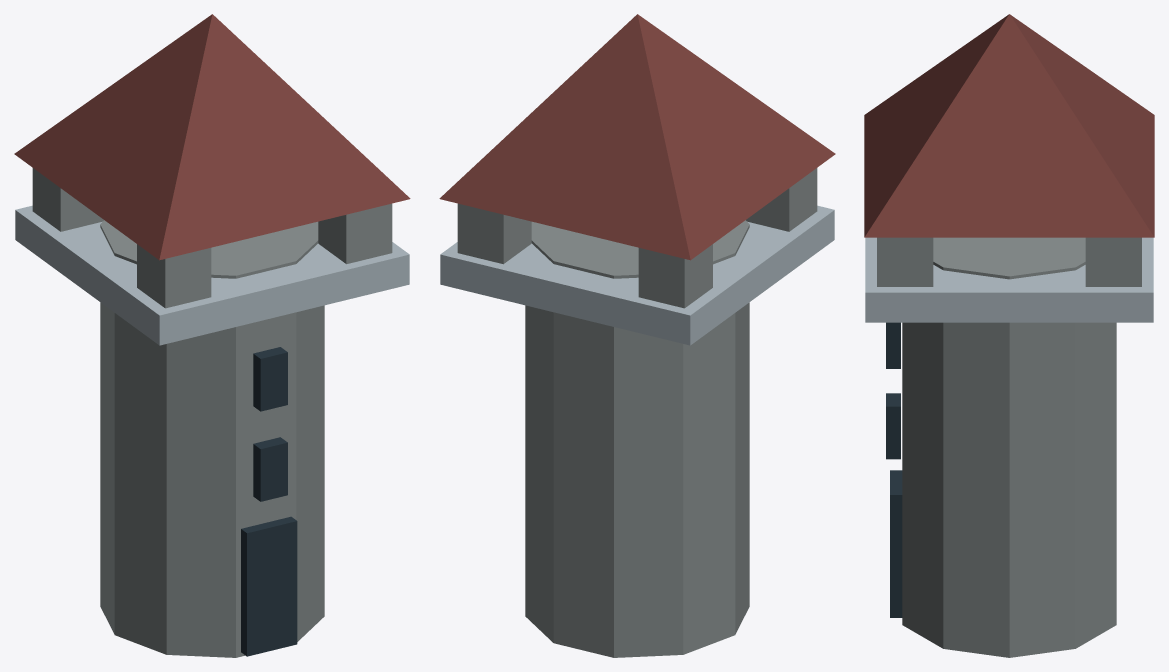
File: tower.obj
3 views of the same model, side by side, from view 1: azimuth 30°, elevation 25°; view 2: azimuth 150°, elevation 25°; view 3: azimuth 270°, elevation 25° (orthographic).
Parts seen in each view (by area): view 1: tower; view 2: tower; view 3: tower.
Part boxes in pixels (x1,y1,x2,y2): tower: [14, 14, 410, 657]; tower: [439, 14, 835, 657]; tower: [864, 14, 1154, 657].
Size of the model in its own units: 1.75 by 3.97 by 1.75.
